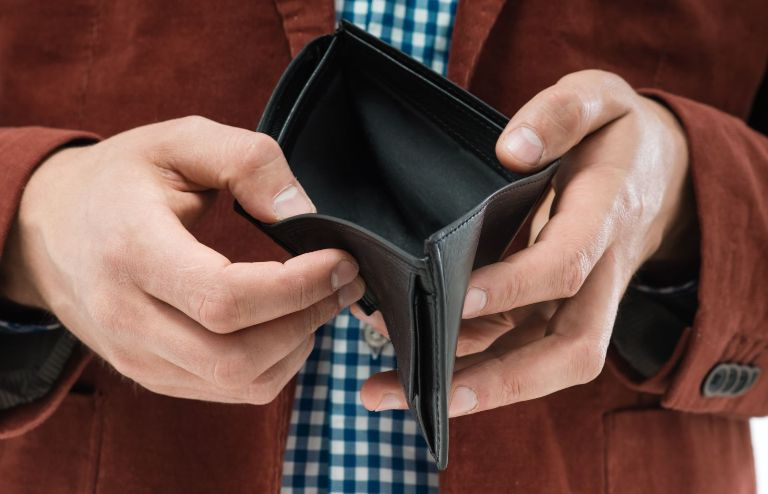monedero: (232, 14, 569, 473)
